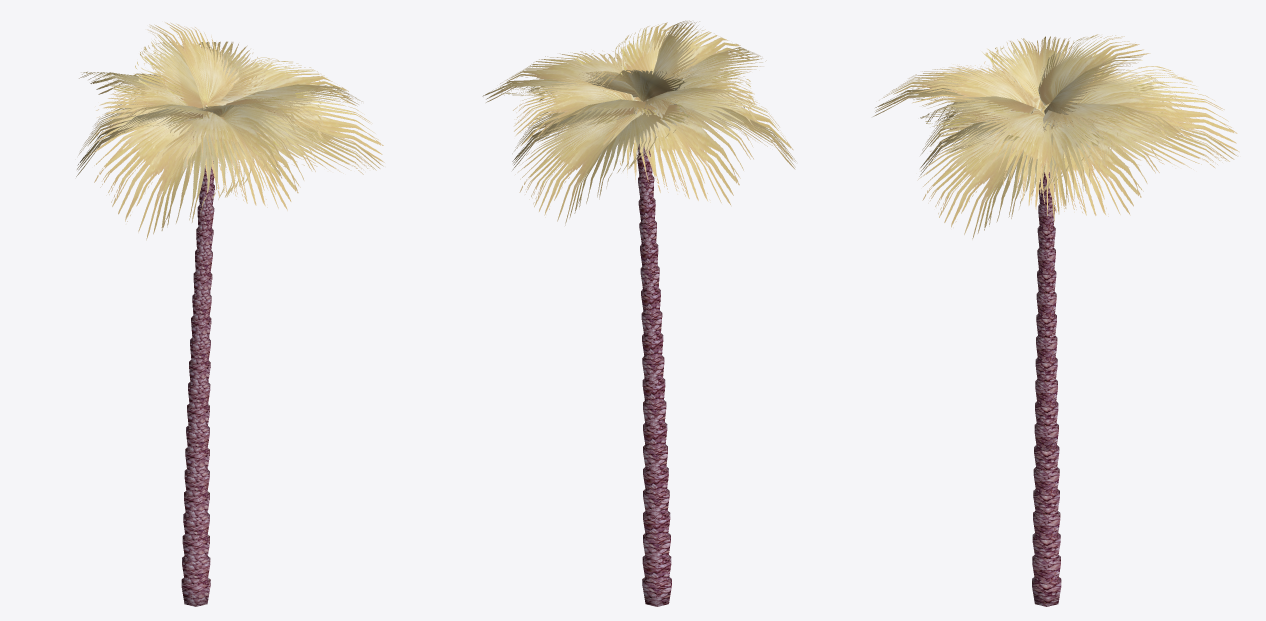
Rendered from eye_tree_you.fbx.
The picture shows the model from 3 angles, left to right: view 1: azimuth 30°, elevation 25°; view 2: azimuth 150°, elevation 25°; view 3: azimuth 270°, elevation 25°; orthographic projection. The views are drawn at different scales.
Visible parts, largest first — view 1: Eye_Tree; view 2: Eye_Tree; view 3: Eye_Tree.
Boxes of the visible parts, x1,y1,x2,y2 form: Eye_Tree: (76, 22, 384, 606); Eye_Tree: (482, 20, 796, 606); Eye_Tree: (873, 34, 1239, 606).
Size of what is drawn, in the model's own units: 471 by 689 by 445.
Materials: 1 (1 with a texture image).
